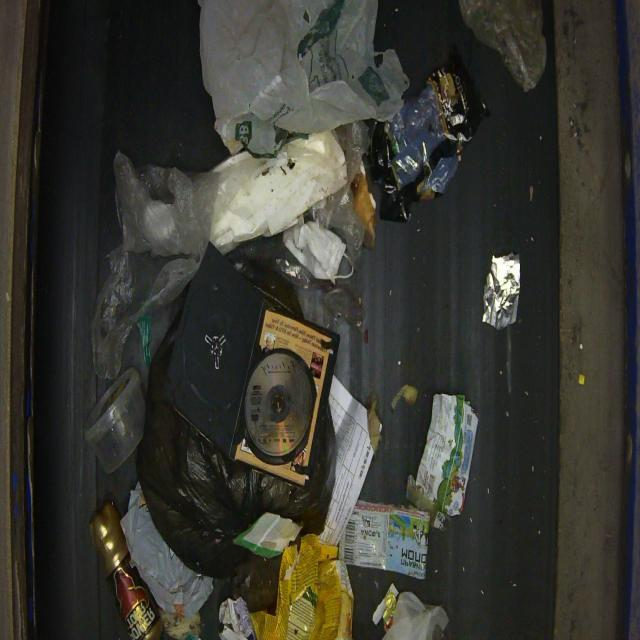bottles: (88, 498, 164, 639)
cups: (82, 366, 146, 474)
trashbin: (135, 239, 340, 581)
